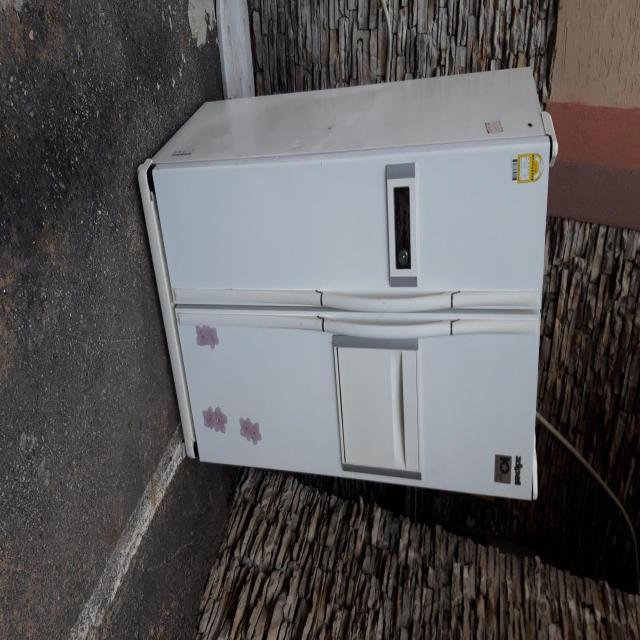refrigerator: (137, 66, 559, 502)
